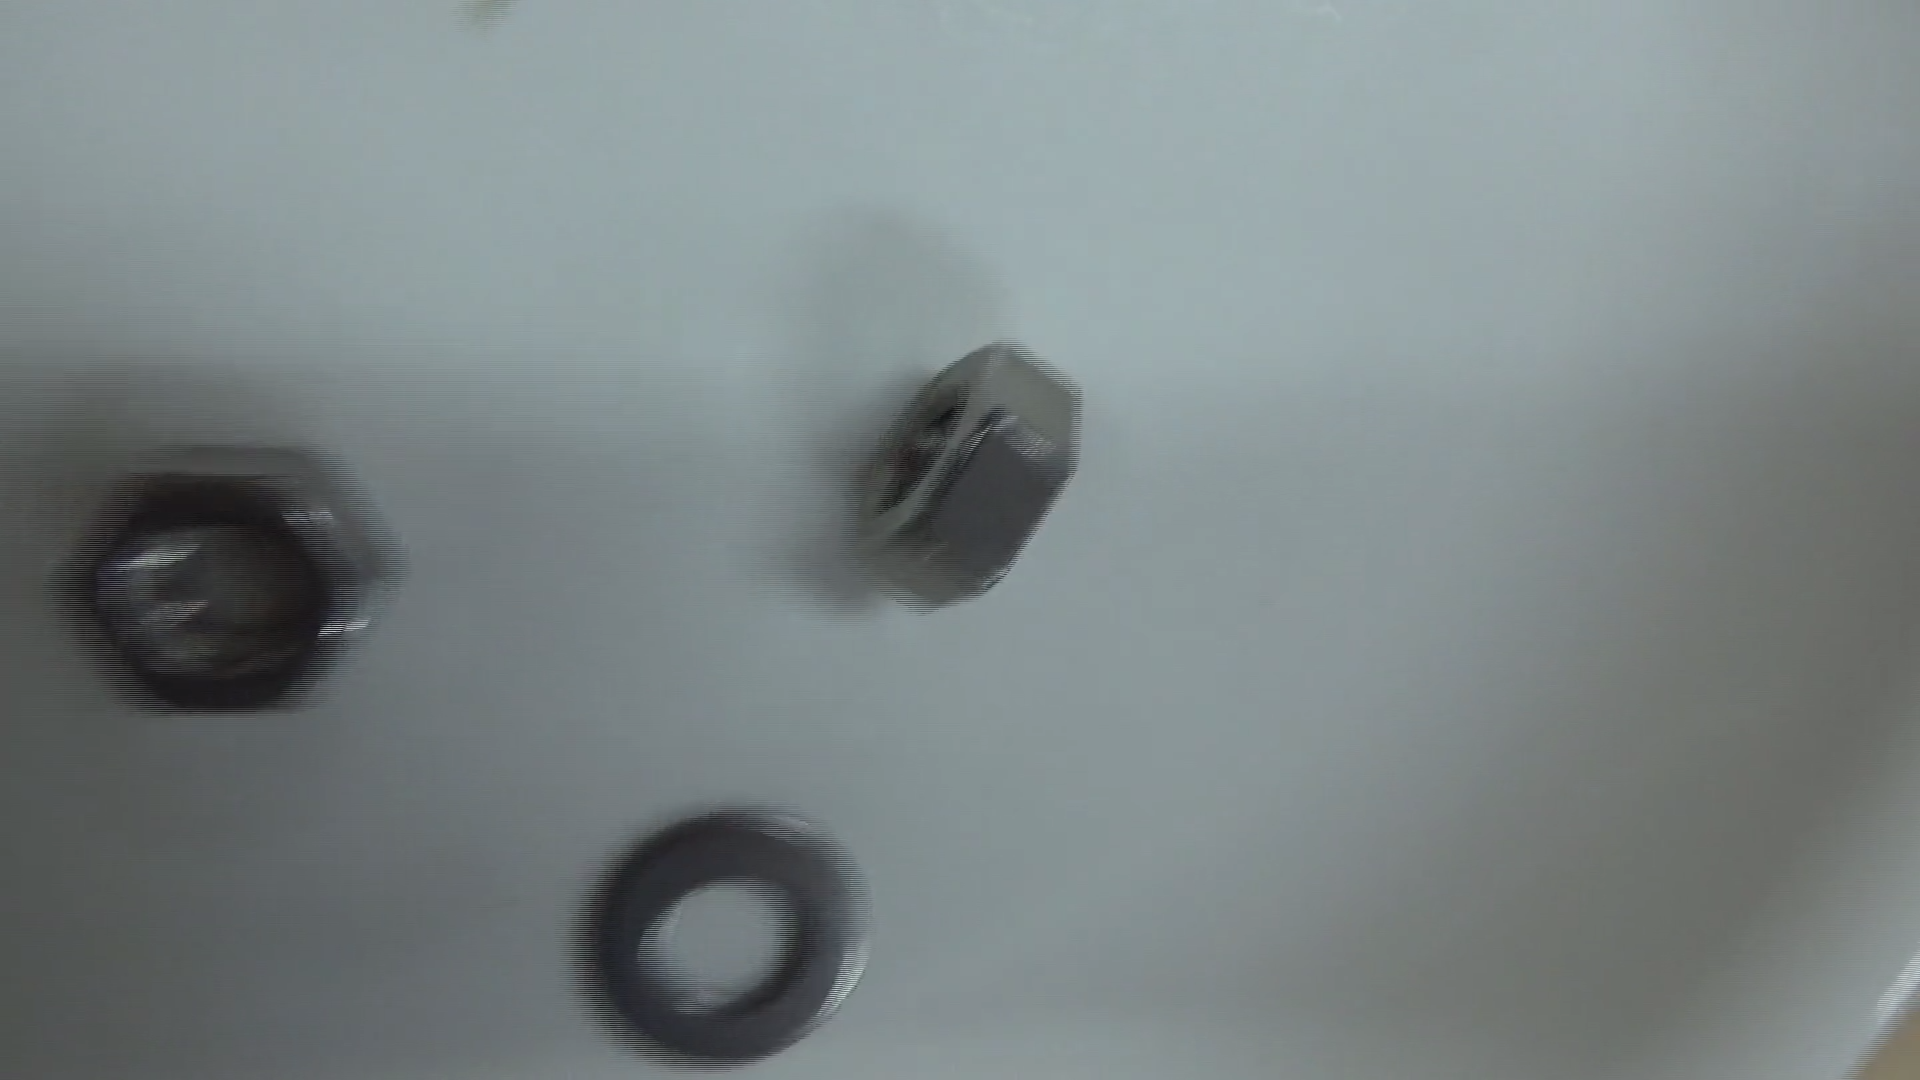nut: (53, 442, 413, 731), (837, 328, 1095, 632)
washer: (559, 789, 861, 1076)
